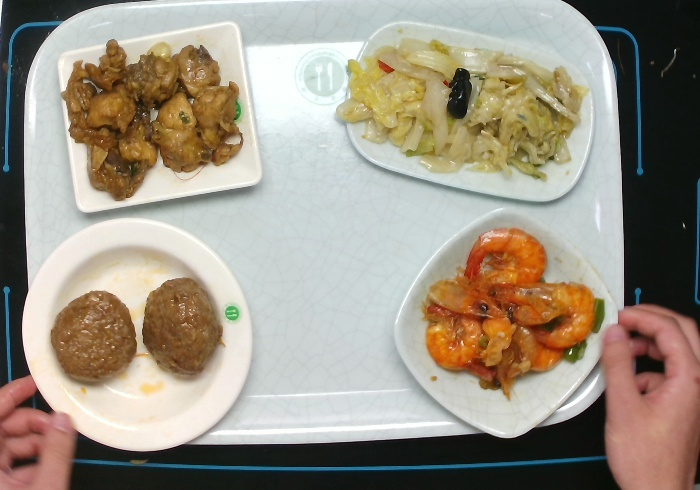WCQzf-Bai_Se_Si_Fang_Die: (52, 18, 263, 222)
WCQzf-Da_Si_Fang_Die: (392, 203, 623, 438)
WCQzf-Kuan_Bian_Yuan_Die: (21, 212, 258, 454)
WCQzf-Tuo_Yuan_Pan: (337, 14, 600, 204)
